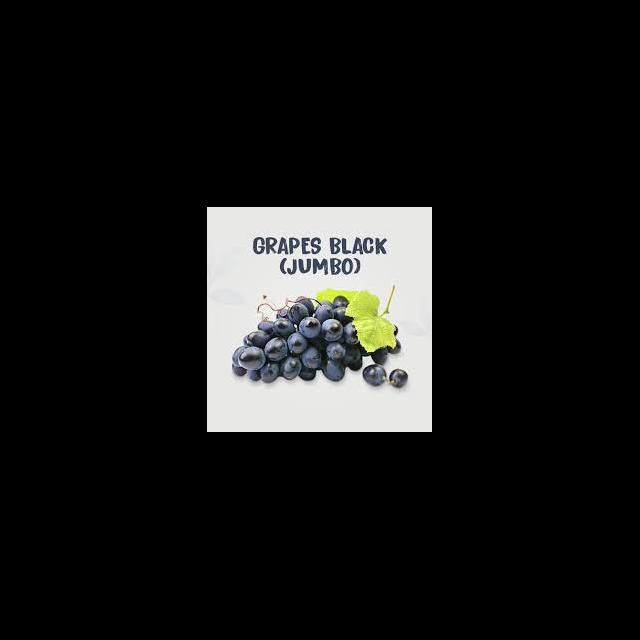grape: (232, 294, 408, 388)
